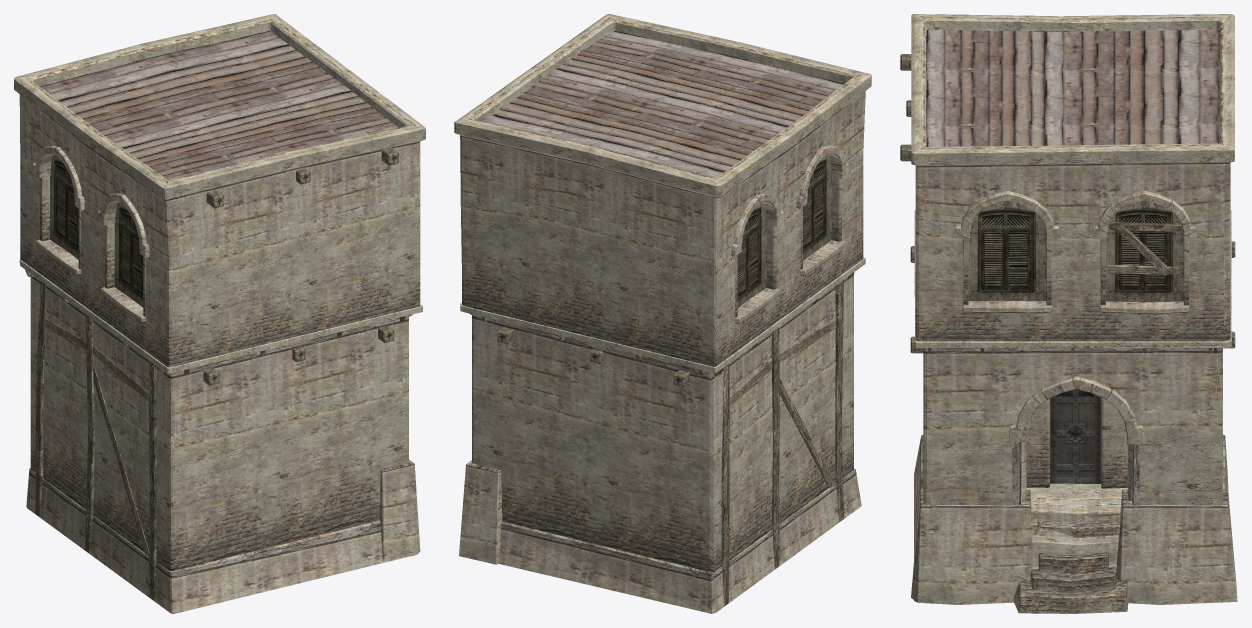
File: TW2_5_HOUSE_01_6-transformed.glb
3 views of the same model, side by side, from view 1: azimuth 30°, elevation 25°; view 2: azimuth 150°, elevation 25°; view 3: azimuth 270°, elevation 25° (orthographic). The views are drawn at different scales.
Visible parts, largest first — view 1: default; view 2: default; view 3: default.
Part boxes in pixels (left/top/right/bottom): default: left=14, top=14, right=425, bottom=613; default: left=454, top=14, right=871, bottom=613; default: left=900, top=14, right=1237, bottom=613.
Bounding box in the file's own units: 7.19 × 10.39 × 6.92.
4 materials, 4 textured.
